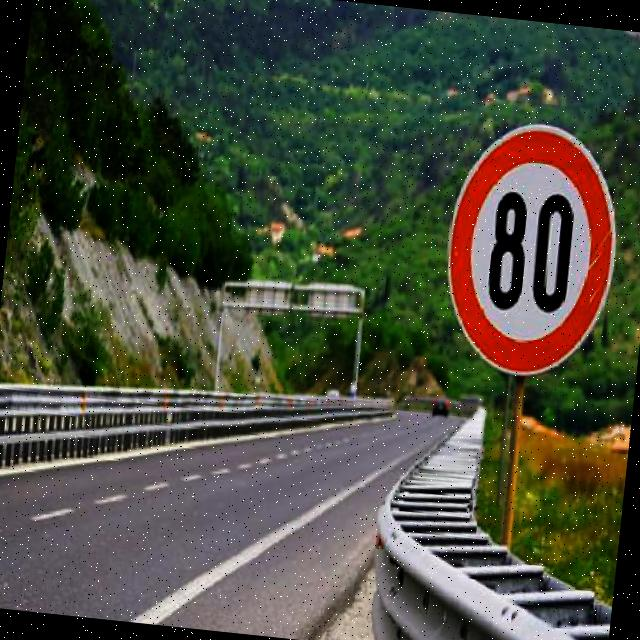Ograniczenie predkosci do 80: (446, 140, 610, 366)
